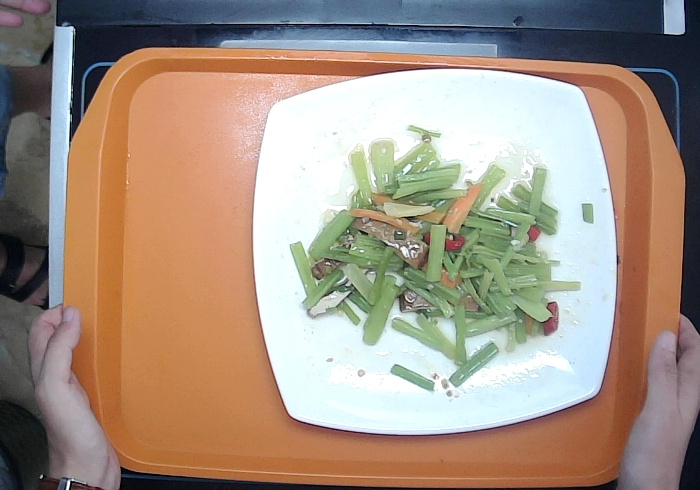ZNLD-Bai_Fang_Pan: (250, 65, 618, 438)
